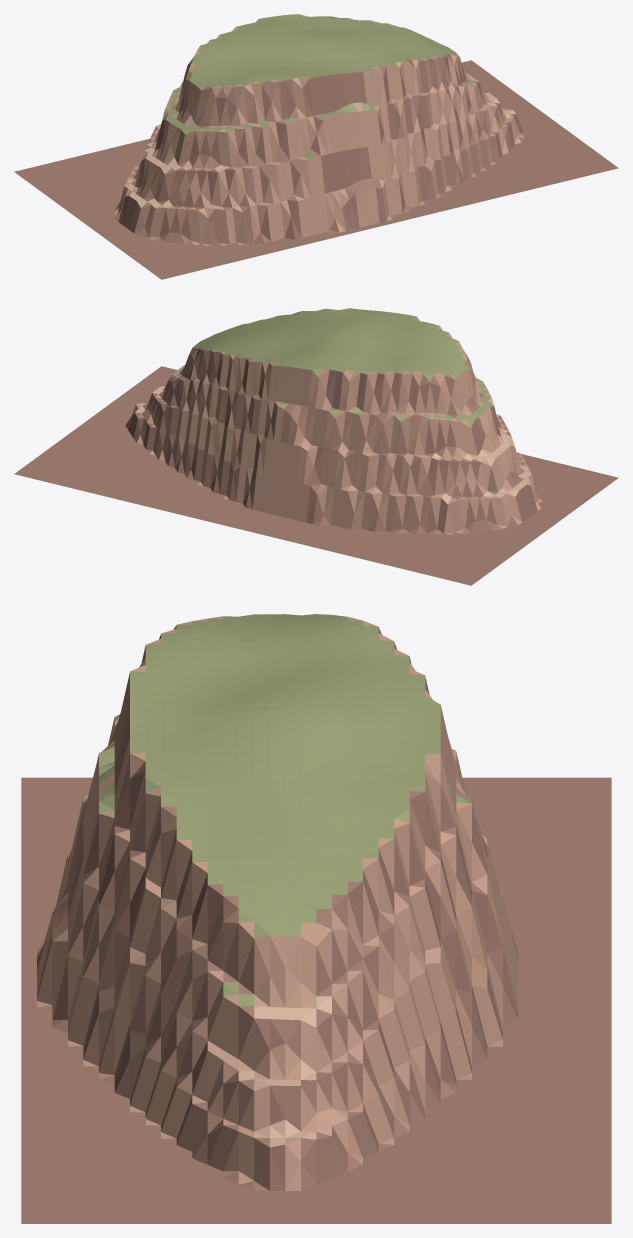
The model's file is headland.glb.
3 renders of one model, top to bottom at view 1: azimuth 30°, elevation 25°; view 2: azimuth 150°, elevation 25°; view 3: azimuth 270°, elevation 25°, orthographic. The views are drawn at different scales.
Visible parts, largest first — view 1: headland; view 2: headland; view 3: headland.
Boxes of the visible parts, box(x1,y1,x2,y2) form: headland: box(14, 14, 618, 279); headland: box(14, 308, 618, 585); headland: box(21, 614, 611, 1223).
Bounding box in the file's own units: 170 × 49.35 × 94.99.
